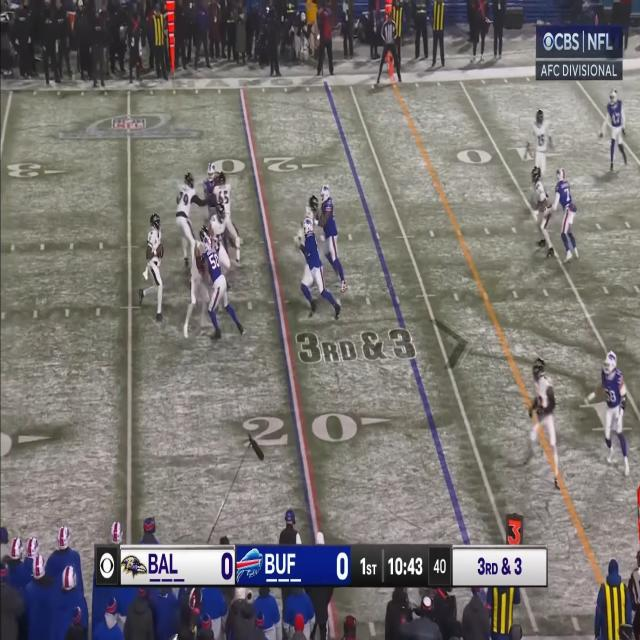Ball: (157, 241, 164, 260)
